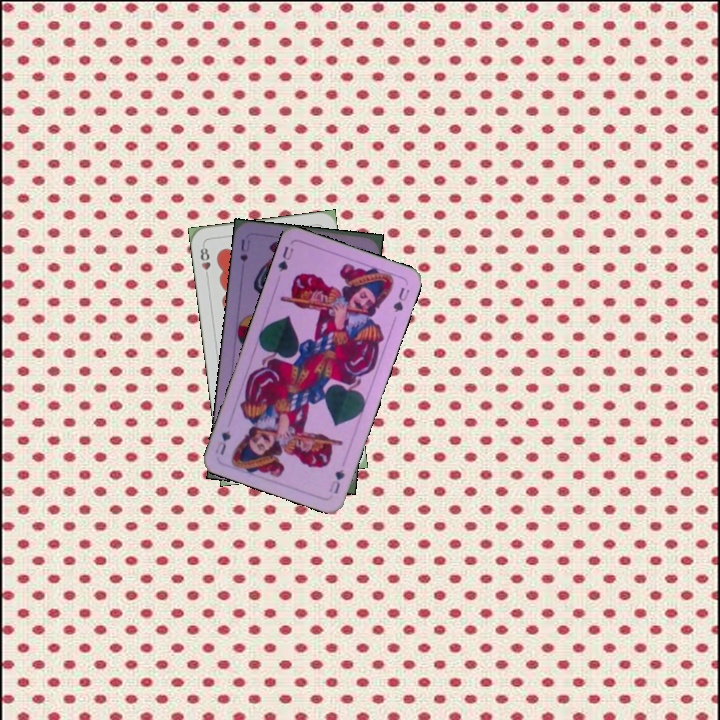GU: (274, 242, 296, 274), (325, 465, 347, 496)
H8: (196, 241, 213, 281)
SU: (236, 235, 253, 264)
